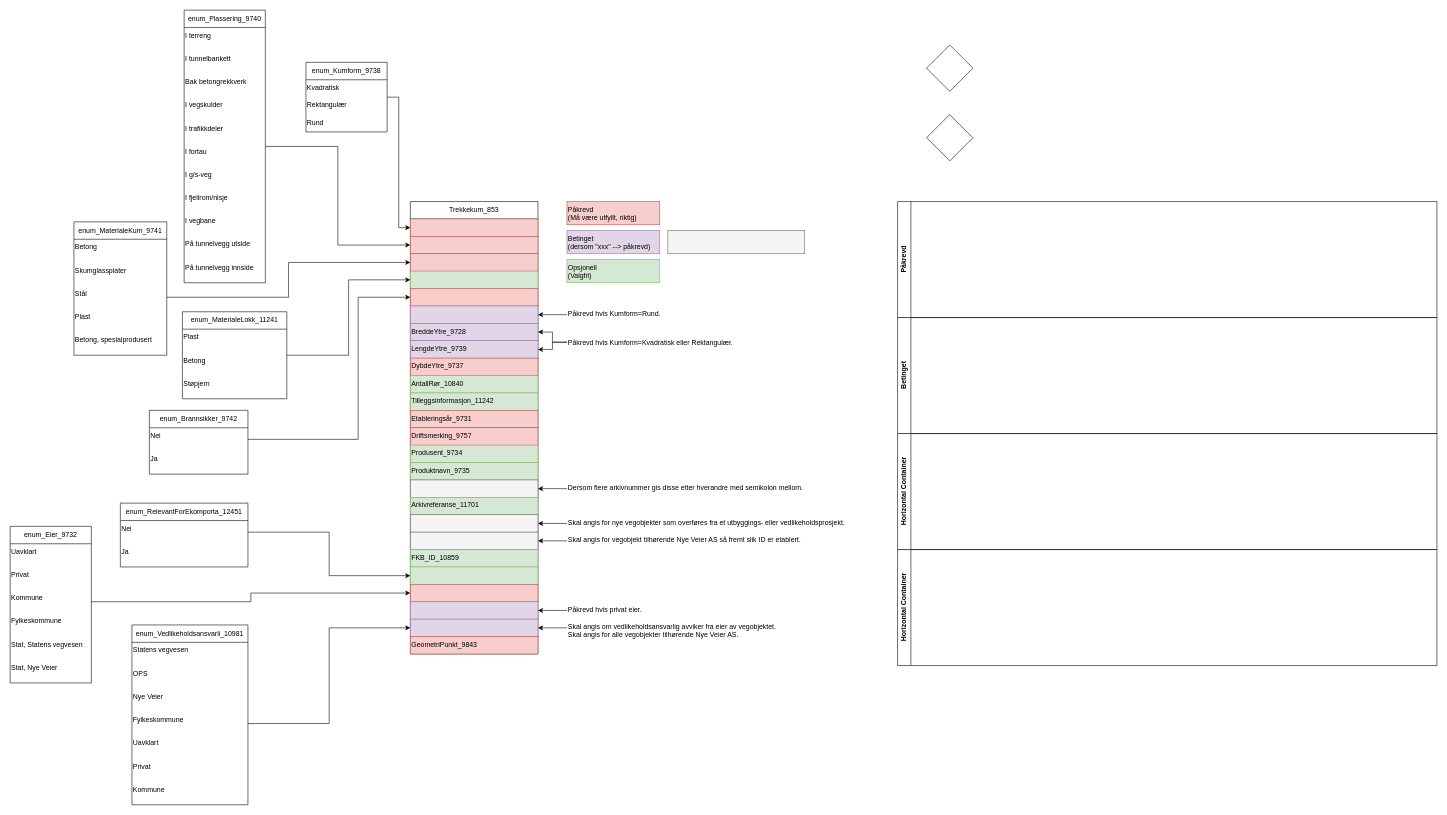
Some shapes in this 1447 by 815 pixel diagram are drawn without their labels. Here are the shapes that lost their labels. From the top down, the centre of each, then its label:
At [474,227]: "Kumform_9738".
At [474,245]: "Plassering_9740".
At [736,242]: "Betinget prosjektspesifikk (dersom oppgitt av byggherre --> påkrevd)".
At [474,262]: "MaterialeKum_9741".
At [474,280]: "MaterialeLokk_11241".
At [474,297]: "Brannsikker_9742".
At [474,314]: "DiameterYtre_9729".
At [474,488]: "Arkivnummer_9730".
At [474,523]: "Prosjektreferanse_11168".
At [474,541]: "ProsjektInternObjekt_12427".
At [474,575]: "RelevantForEkomporta_12451".
At [474,593]: "Eier_9732".
At [474,610]: "EierNavn_9733".
At [474,628]: "Vedlikeholdsansvarli_10981".
